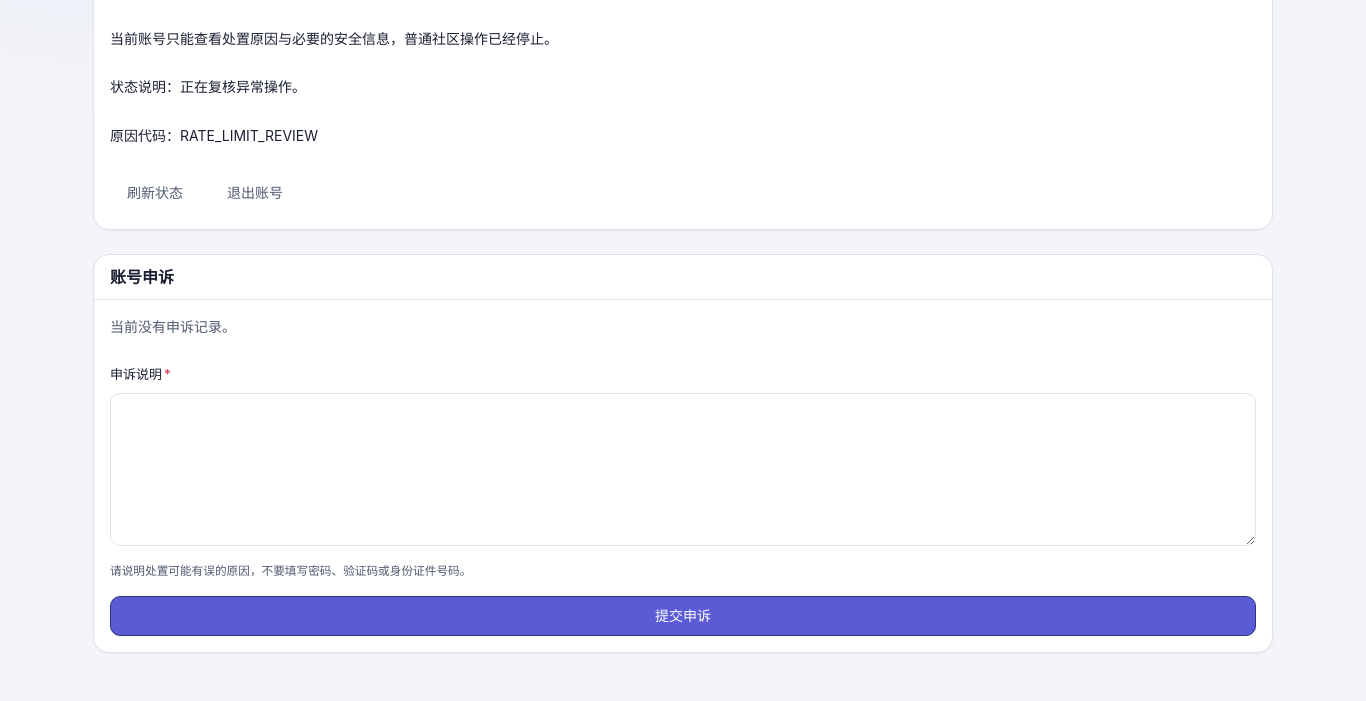
Test: community account security pages › submits an appeal and displays exactly the returned pending status
(page scrolled)
Check: the text "状态说明：正在复核异常操作。" is shown, box [110,78,306,95]
Type "我认为本次处置可能有误，请重新核验对应时间段内的操作记录。" into the text box labelled "申诉说明*" at {"x": 683, "y": 469}, box [110,393,1256,546]
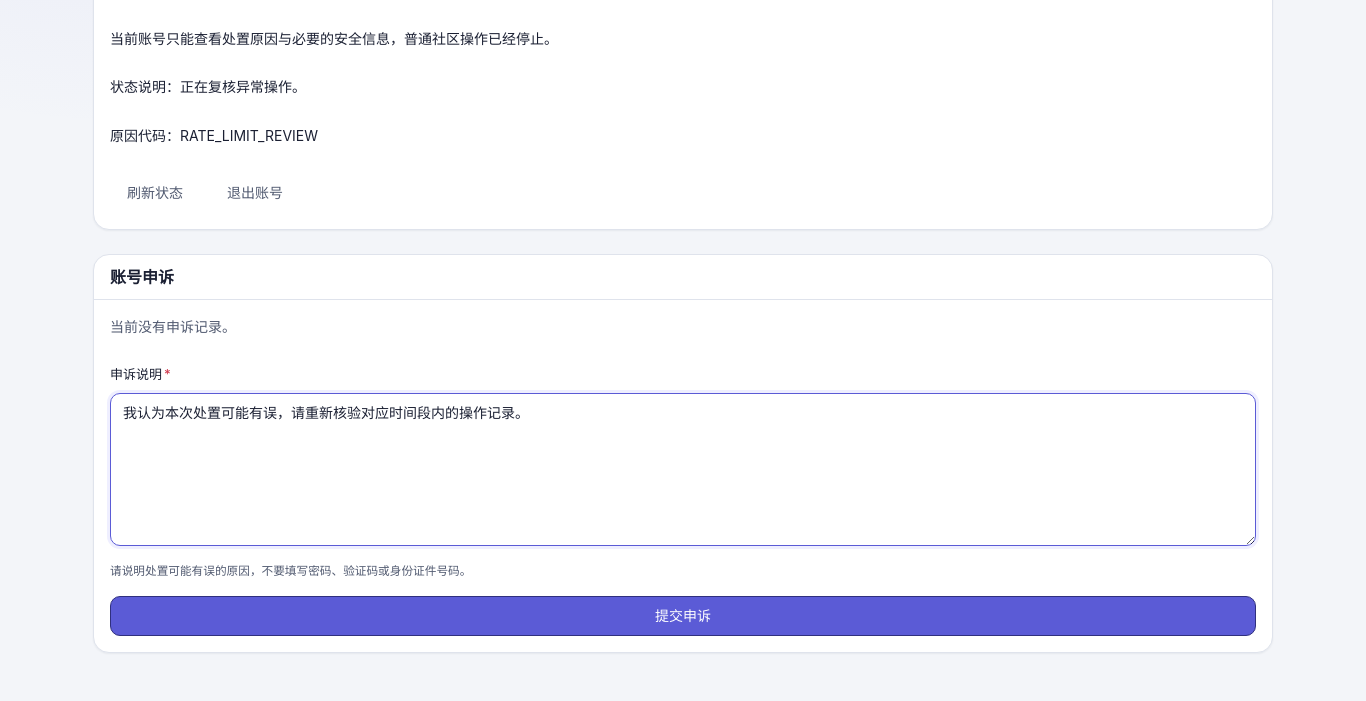
Click the button "提交申诉" at {"x": 683, "y": 616}, box [110,596,1256,636]
(page scrolled)
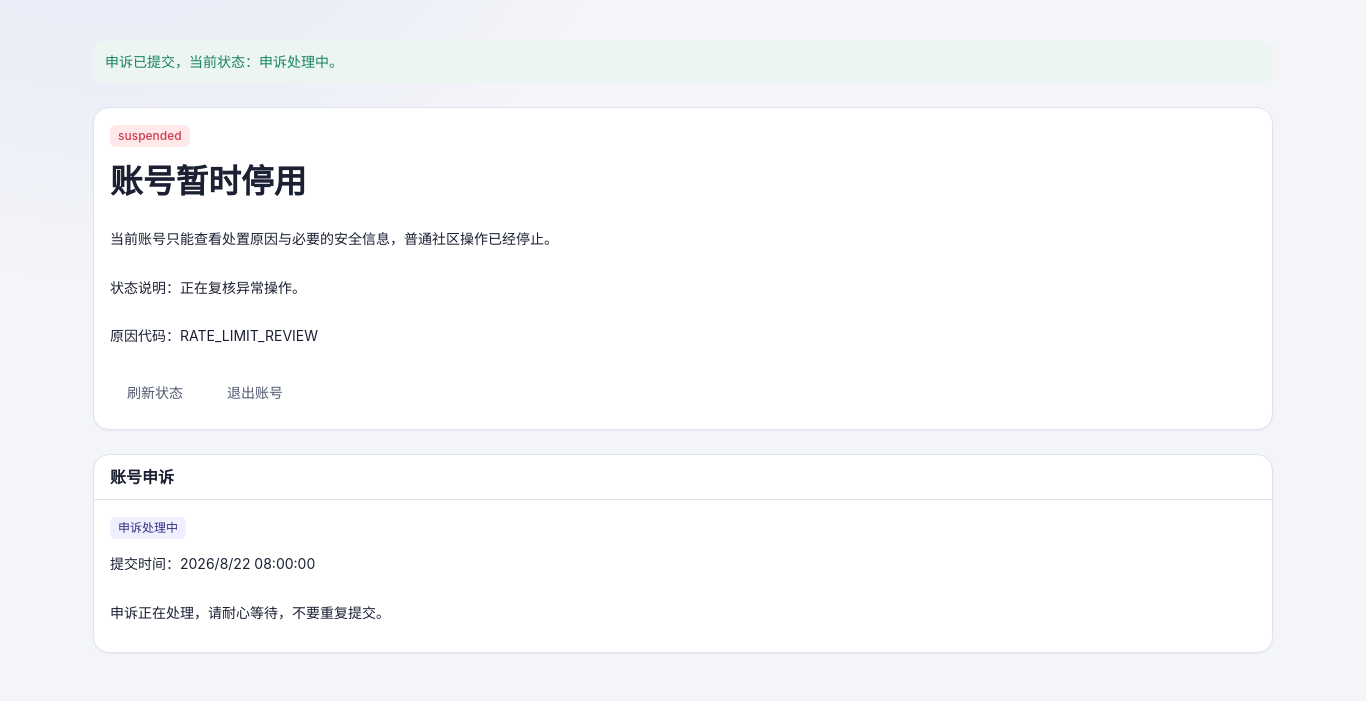
Check: the text "申诉处理中" is shown, box [110,517,186,539]
